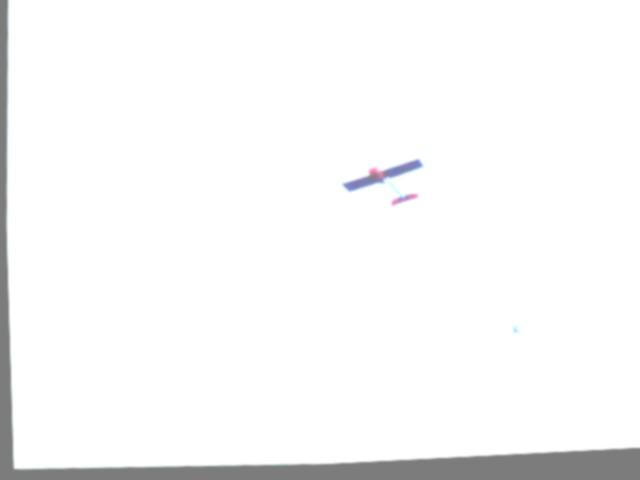uav: (326, 143, 438, 236)
